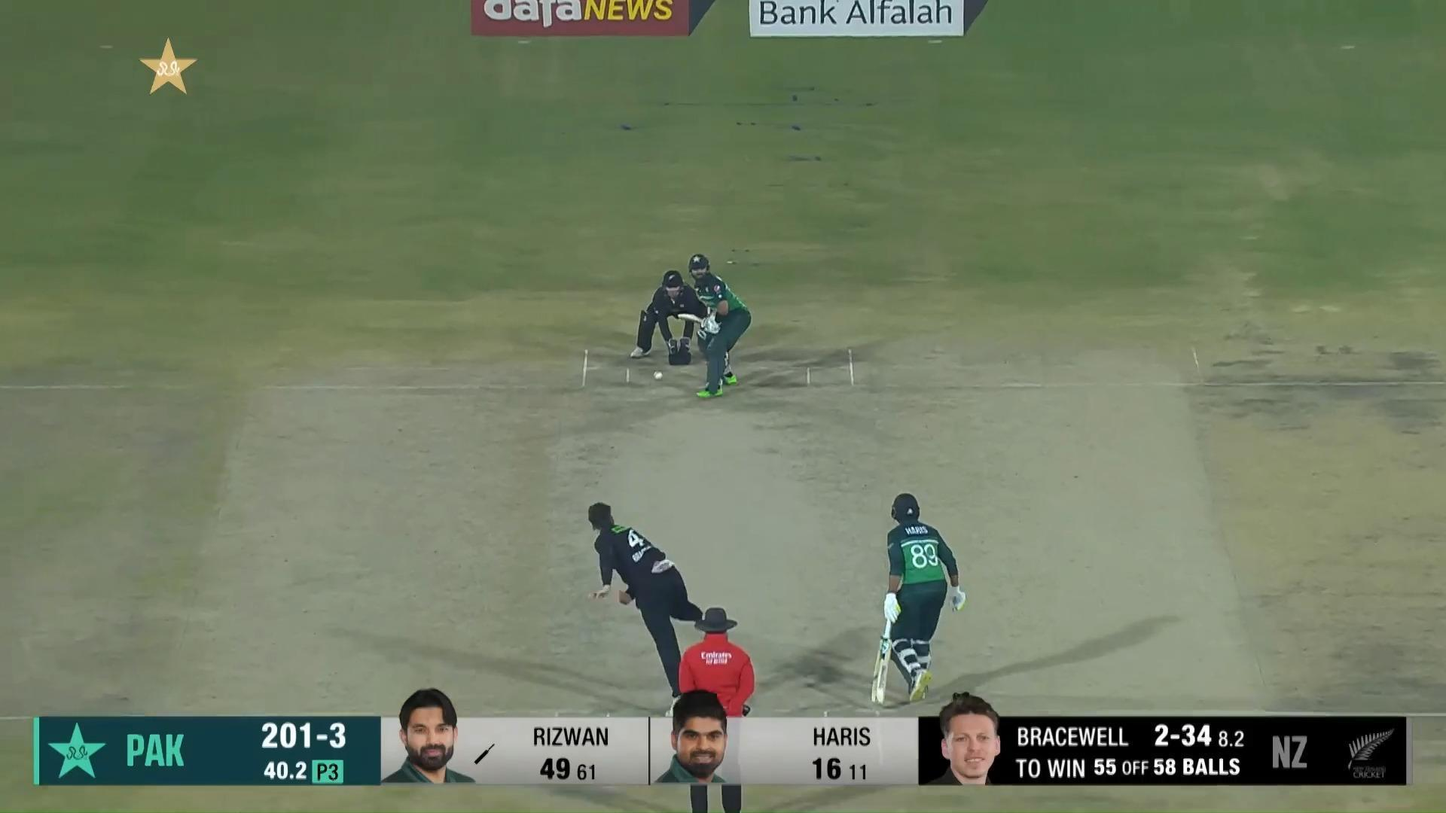BM 1: (676, 253, 752, 399)
BO: (587, 498, 703, 718)
